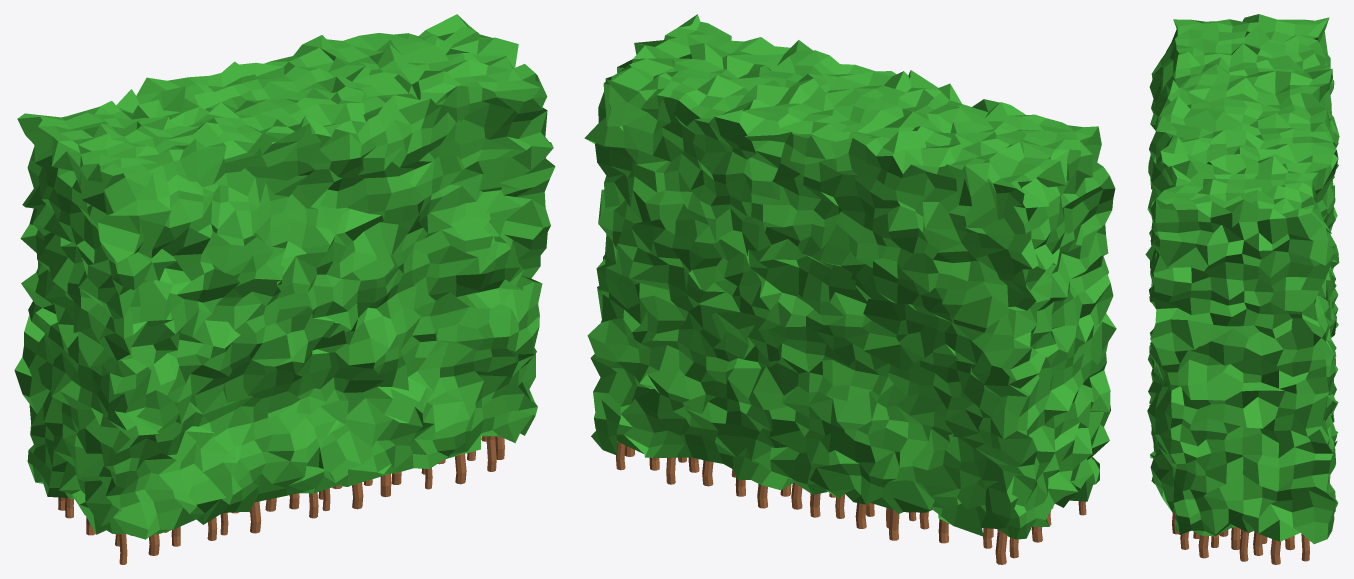
The model's file is Heg.fbx.
3 renders of one model, left to right at view 1: azimuth 30°, elevation 25°; view 2: azimuth 150°, elevation 25°; view 3: azimuth 270°, elevation 25°, orthographic. The views are drawn at different scales.
Parts seen in each view (by area): view 1: Cube, Cylinder.110; view 2: Cube, Cylinder.110; view 3: Cube, Cylinder.110.
Part boxes in pixels (x1=…): Cube: x1=14, y1=14, x2=555, y2=539; Cylinder.110: x1=58, y1=436, x2=504, y2=564; Cube: x1=584, y1=14, x2=1116, y2=539; Cylinder.110: x1=616, y1=441, x2=1086, y2=564; Cube: x1=1145, y1=14, x2=1339, y2=543; Cylinder.110: x1=1172, y1=512, x2=1309, y2=564.
Bounding box in the file's own units: 535 × 453 × 216.
